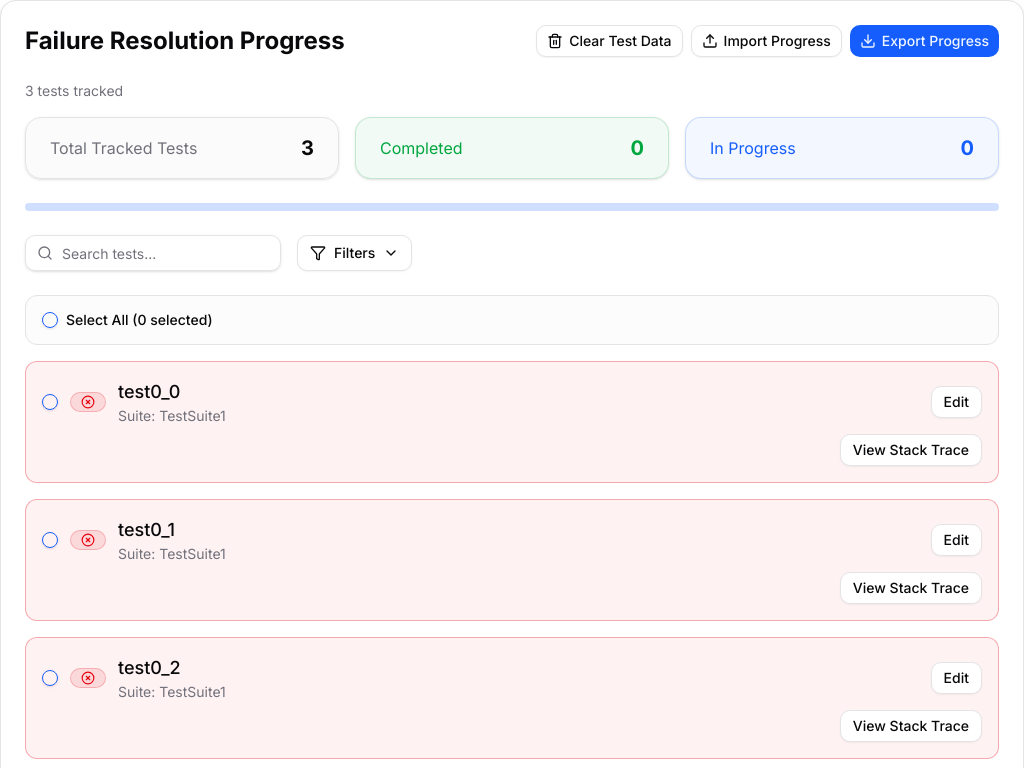
Test: FailureAnalysisProgress › Bulk Actions › should show bulk action buttons when tests are selected
Expected: the text "Bulk Actions:" is not shown
// Select a test
Step 1. Click the checkbox named "Select test0_0" → (50,402), box 42,394 -> 58,410
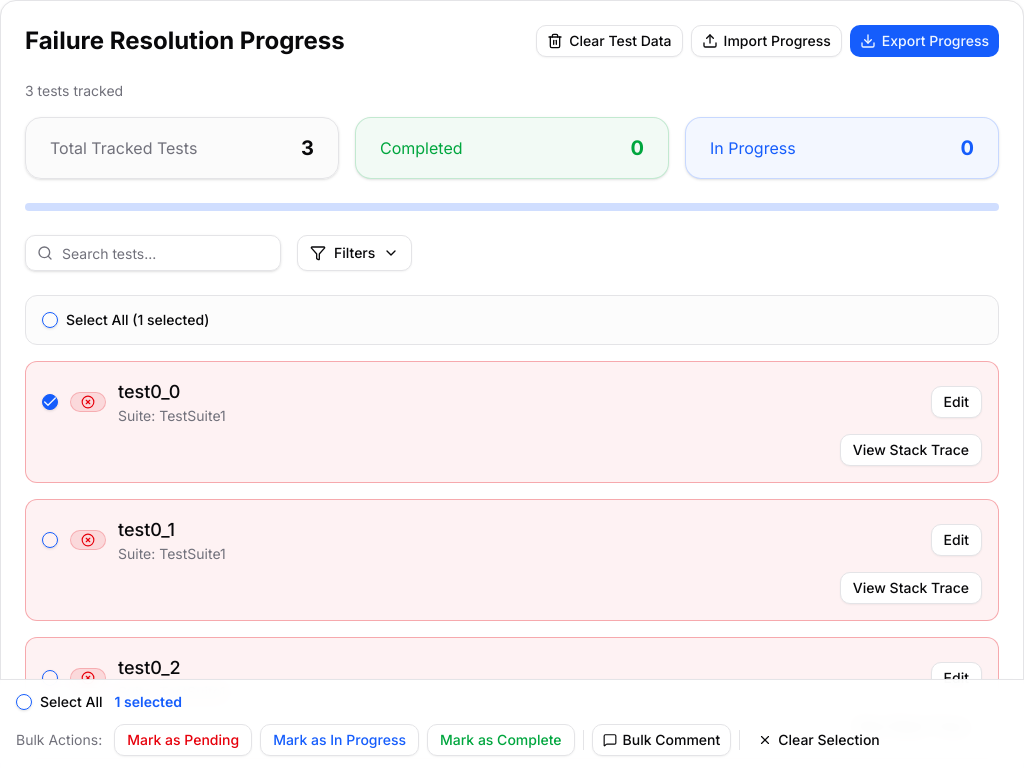
Expected: the text "Bulk Actions:" is shown, 16,730 -> 102,750
Expected: the button "Mark as Pending" is shown, 114,724 -> 252,756
Expected: the button "Mark as In Progress" is shown, 260,724 -> 419,756
